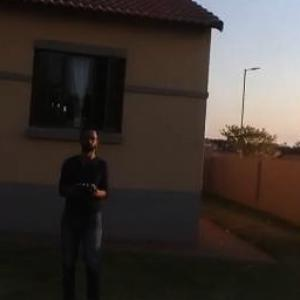follow: (50, 116, 125, 299)
